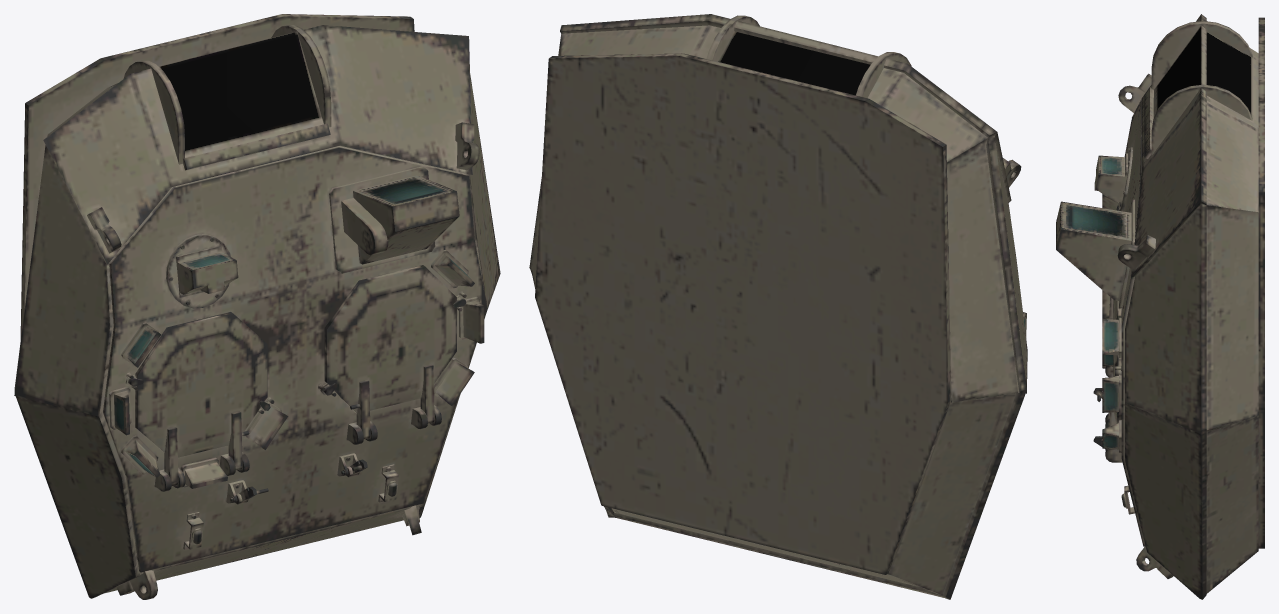
File: Turret_01.glb
The picture shows the model from 3 angles, left to right: view 1: azimuth 30°, elevation 25°; view 2: azimuth 150°, elevation 25°; view 3: azimuth 270°, elevation 25°; orthographic projection. The views are drawn at different scales.
Parts seen in each view (by area): view 1: set_0_group_0; view 2: set_0_group_0; view 3: set_0_group_0.
Part boxes in pixels (x1,y1,x2,y2): set_0_group_0: [14, 14, 500, 599]; set_0_group_0: [529, 14, 1027, 599]; set_0_group_0: [1056, 14, 1264, 599].
Size of the model in its own units: 1.75 by 1.77 by 0.7271.
Materials: 1 (1 with a texture image).
